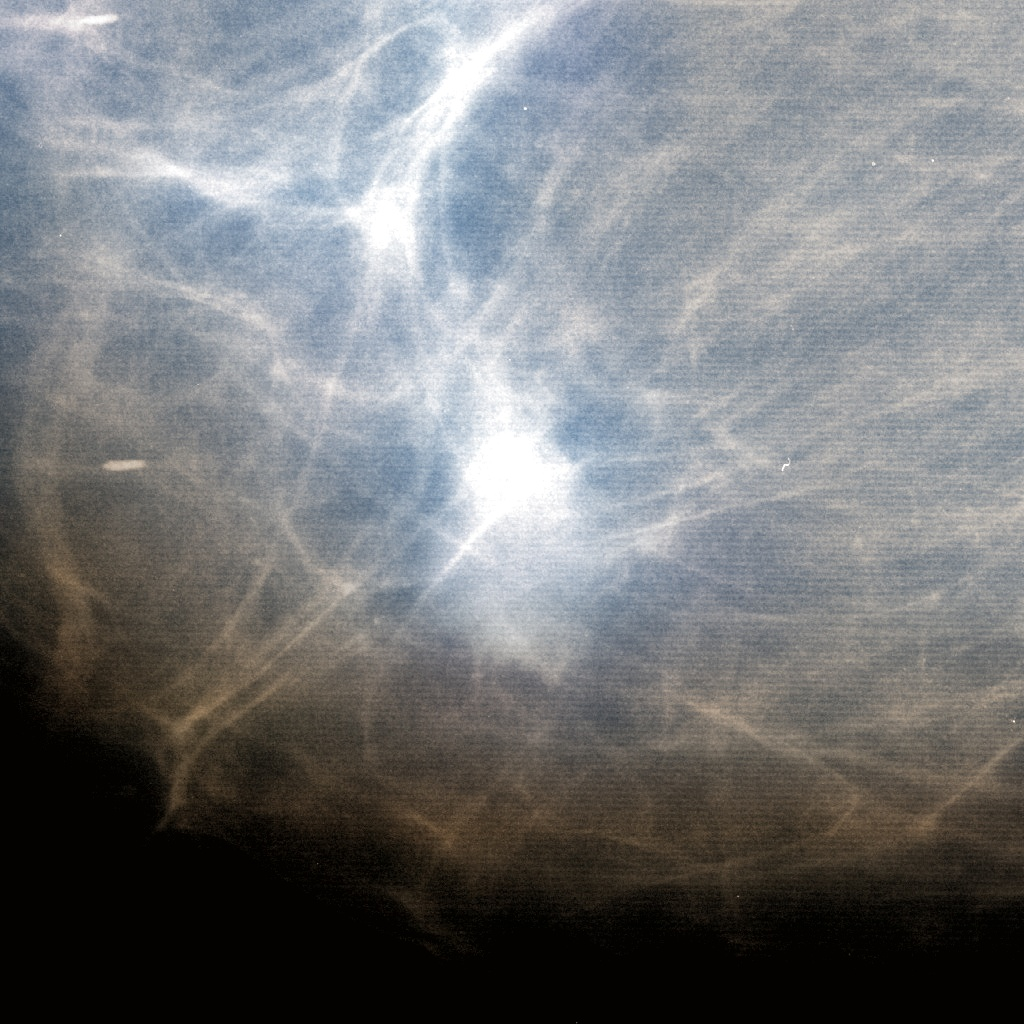tumor: (365, 334, 659, 690)
